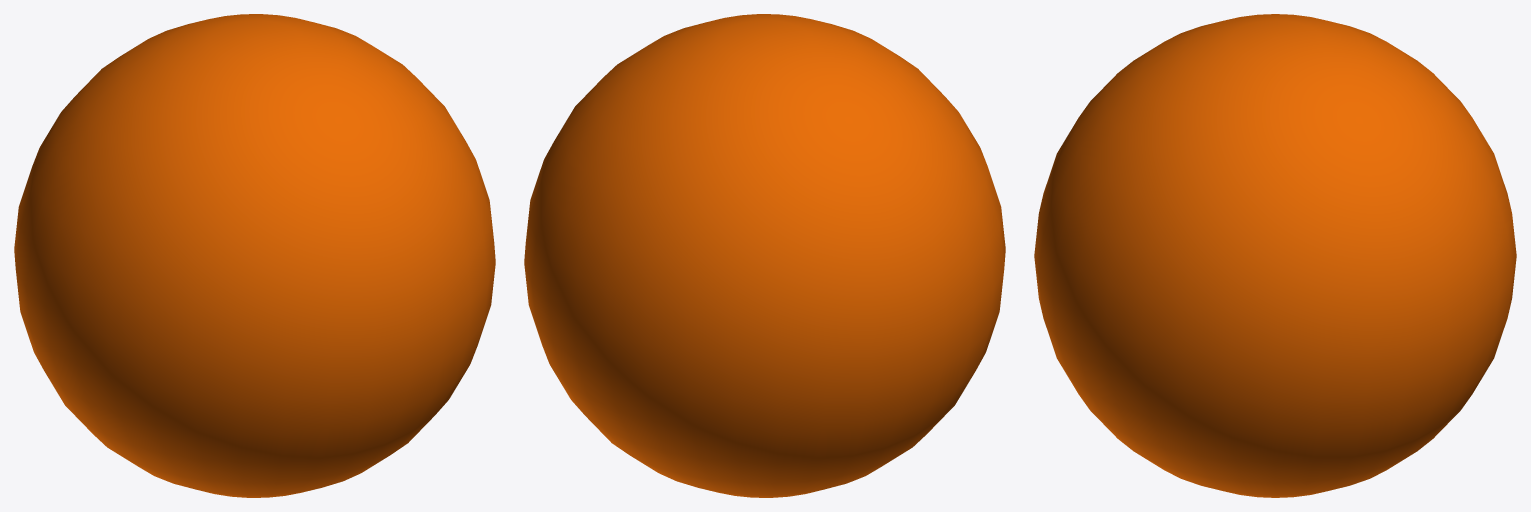
Rendered from orange.fbx.
3 views of the same model, side by side, from view 1: azimuth 30°, elevation 25°; view 2: azimuth 150°, elevation 25°; view 3: azimuth 270°, elevation 25° (orthographic).
Parts seen in each view (by area): view 1: Sphere; view 2: Sphere; view 3: Sphere.
Part boxes in pixels (x1,y1,x2,y2): Sphere: (14, 14, 495, 497); Sphere: (524, 14, 1005, 497); Sphere: (1034, 14, 1516, 497).
Bounding box in the file's own units: 99.04 × 99.04 × 99.04.
